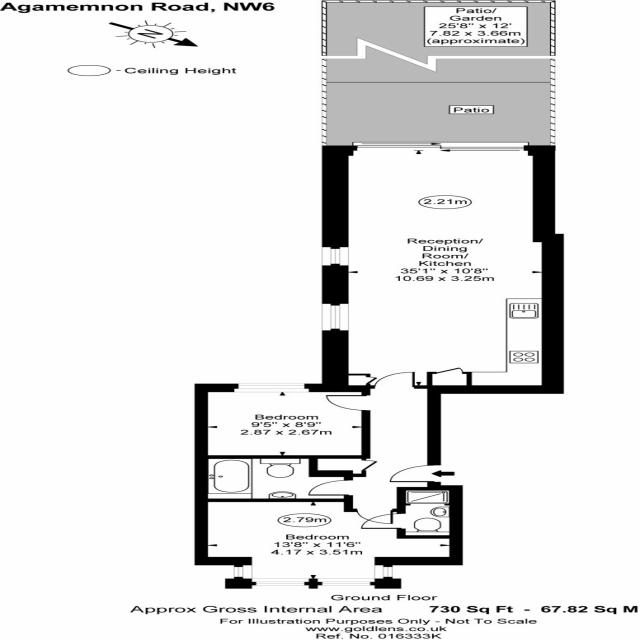DOOR: (388, 463, 442, 483), (322, 393, 372, 412), (305, 479, 354, 497), (371, 371, 418, 389), (358, 513, 407, 530), (353, 508, 397, 525)
ROOM: (322, 142, 564, 396), (194, 485, 464, 589), (193, 383, 375, 459)
SLIDING DOOR: (350, 142, 531, 155)
WINDOW: (319, 303, 351, 332), (232, 383, 311, 393), (320, 246, 351, 267), (316, 578, 376, 585), (251, 578, 310, 585), (232, 564, 254, 579), (374, 565, 394, 579)
